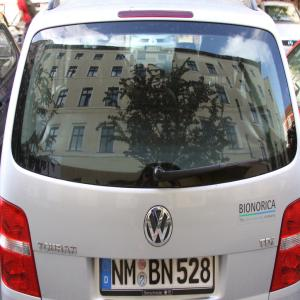Vehicle-registration-plate: (101, 257, 214, 290)
